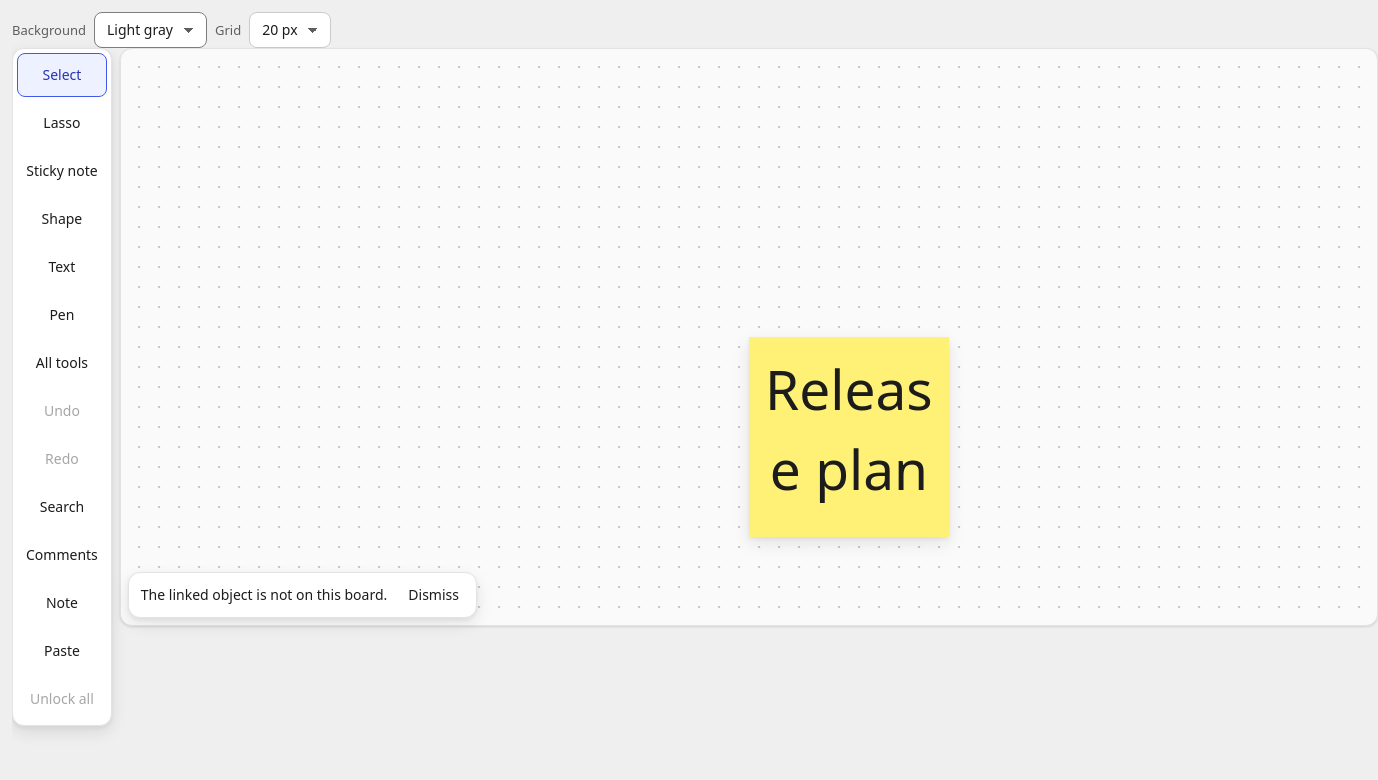
Test: SHR-07: ссылка на объект › объекта из ссылки нет на доске — вид не меняется, показано сообщение
Check: the message shows "The linked object is not on this board.", box [141,585,387,604]
What coordinates should you click on to do the following:
click the button "Dismiss"
I would click on:
 (434, 595)
Its box is [395,577,472,613].
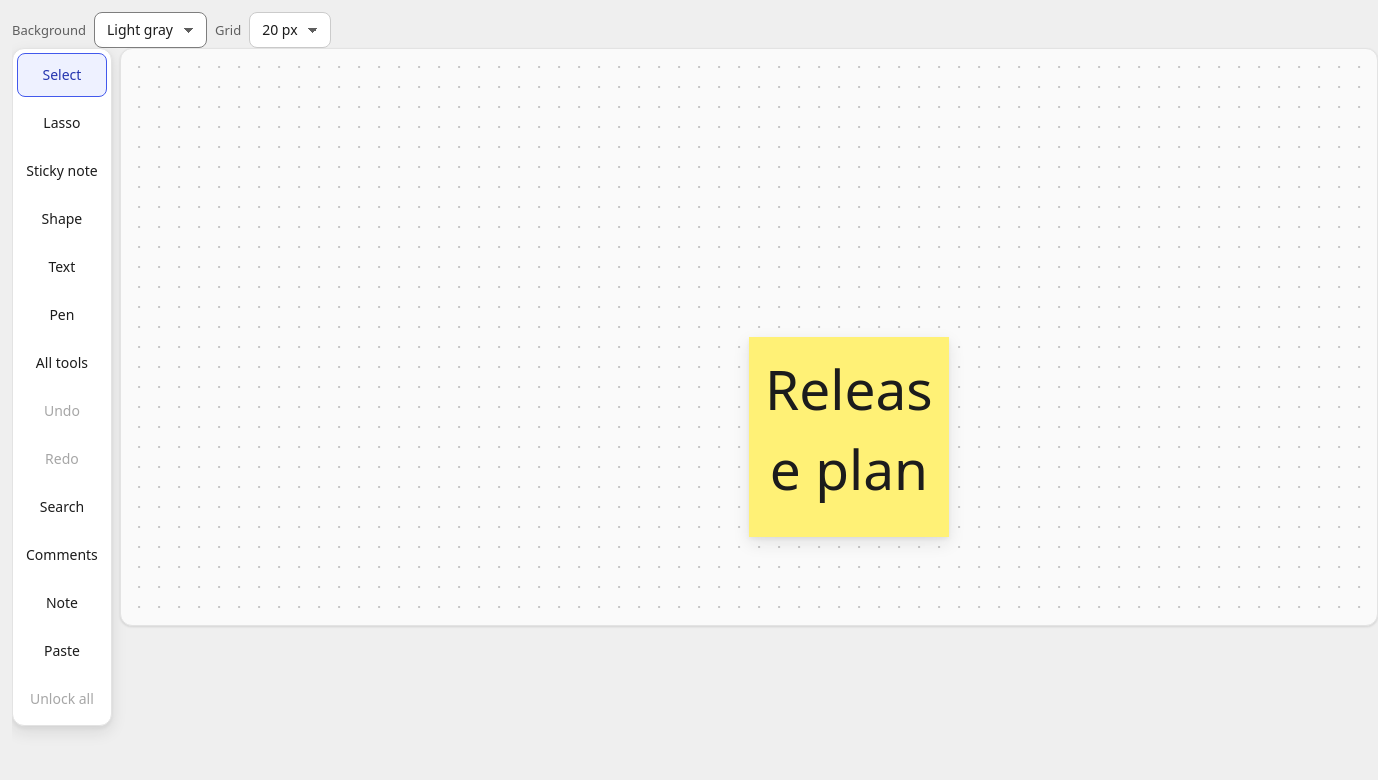
Check: the message "The linked object is not on this board. Dismiss" is gone
